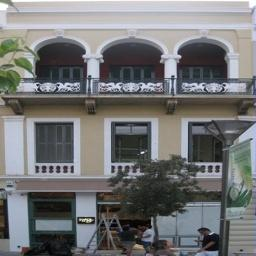building: (0, 0, 256, 256)
